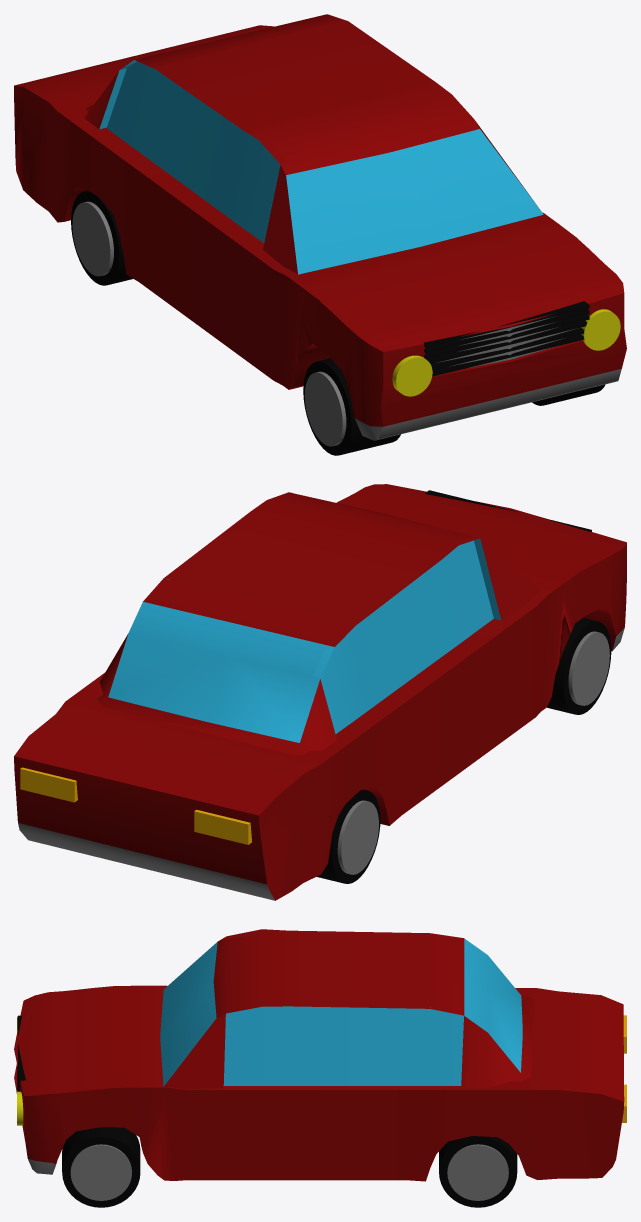
The model's file is arabalada.fbx.
The picture shows the model from 3 angles, top to bottom: view 1: azimuth 30°, elevation 25°; view 2: azimuth 150°, elevation 25°; view 3: azimuth 270°, elevation 25°; orthographic projection. The views are drawn at different scales.
Visible parts, largest first — view 1: Cube, Cube_1, Cylinder_2, Cylinder_5, Cylinder_1, Cylinder_6, Cylinder_8, Cylinder_9, Cube_5, Cube_6, Cube_4, Cube_7 (+2 smaller); view 2: Cube, Cube_1, Cylinder_5, Cylinder_2, Cylinder_1, Cylinder_6, Cube_8, Cube_9; view 3: Cube, Cube_1, Cylinder, Cylinder_4, Cylinder_3, Cylinder_7.
Boxes of the visible parts, x1,y1,x2,y2 form: Cube: [14, 25, 626, 440]; Cube_1: [84, 14, 543, 274]; Cylinder_2: [304, 371, 346, 446]; Cylinder_5: [72, 201, 113, 276]; Cylinder_1: [303, 358, 400, 455]; Cylinder_6: [71, 190, 132, 285]; Cylinder_8: [392, 355, 432, 396]; Cylinder_9: [581, 309, 620, 350]; Cube_5: [424, 314, 589, 359]; Cube_6: [424, 309, 589, 353]; Cube_4: [426, 321, 587, 363]; Cube_7: [423, 301, 589, 347]; Cube: [14, 484, 626, 900]; Cube_1: [97, 492, 539, 754]; Cylinder_5: [337, 800, 378, 874]; Cylinder_2: [568, 631, 609, 705]; Cylinder_1: [547, 618, 611, 714]; Cylinder_6: [316, 789, 380, 883]; Cube_8: [194, 809, 251, 844]; Cube_9: [20, 767, 77, 802]; Cube: [14, 985, 624, 1181]; Cube_1: [160, 929, 533, 1089]; Cylinder: [62, 1127, 140, 1207]; Cylinder_4: [447, 1144, 508, 1200]; Cylinder_3: [70, 1144, 131, 1200]; Cylinder_7: [439, 1136, 517, 1207].
Size of the model in its own units: 311 by 261 by 770.
